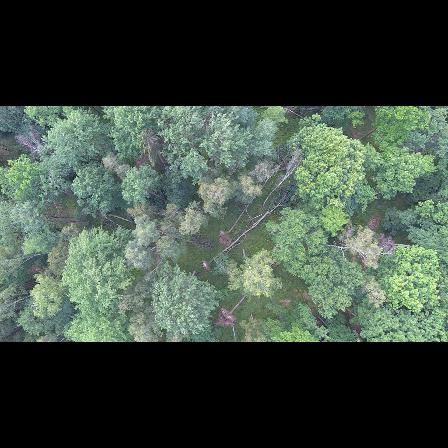Dead: (241, 204, 277, 240), (13, 125, 48, 158), (275, 149, 301, 183)
